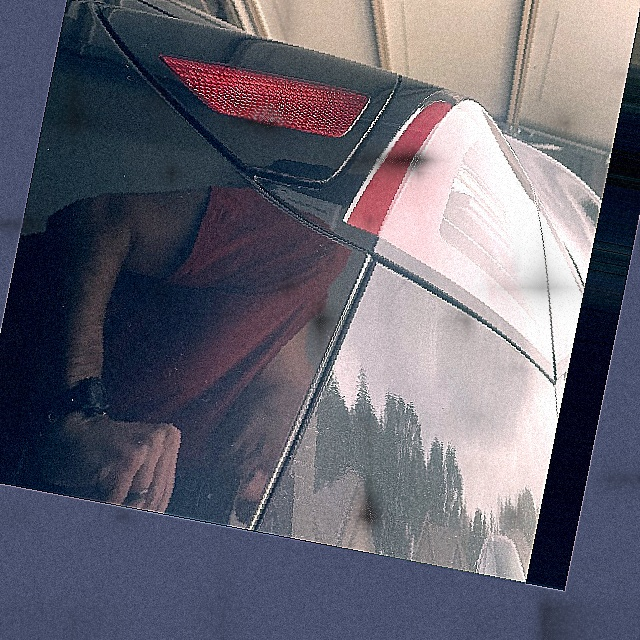reflector: (147, 51, 371, 144)
